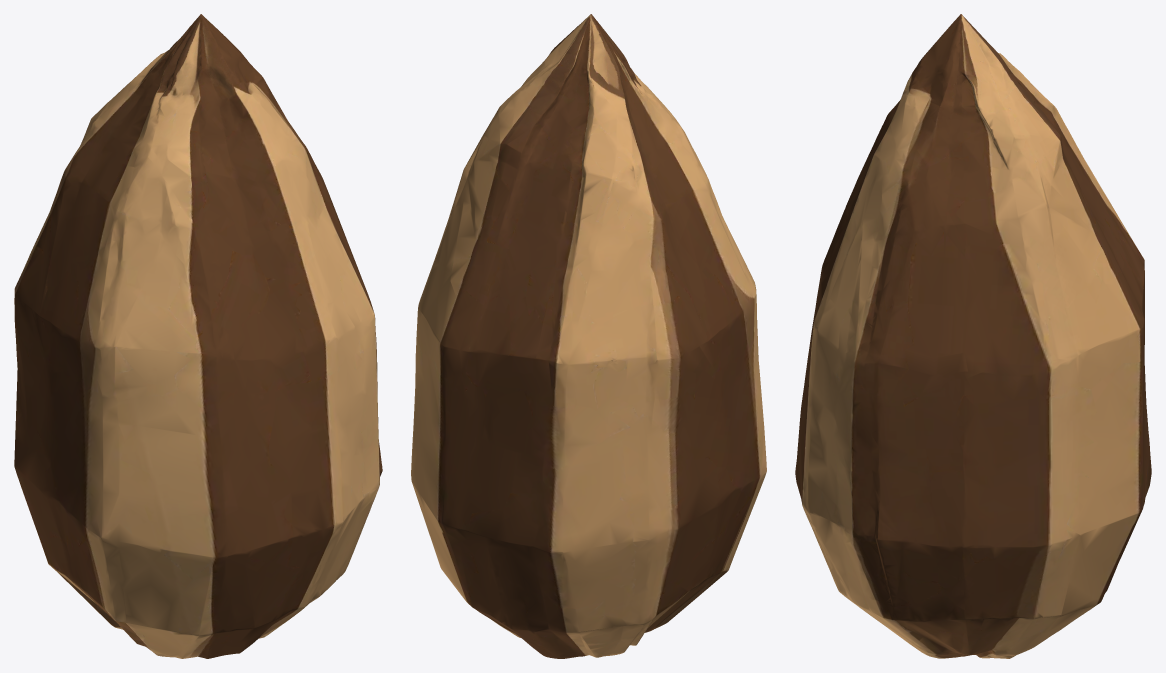
The model's file is seed.glb.
3 renders of one model, left to right at view 1: azimuth 30°, elevation 25°; view 2: azimuth 150°, elevation 25°; view 3: azimuth 270°, elevation 25°, orthographic.
Bounding box in the file's own units: 0.9228 × 1.9 × 0.966.
1 material, 1 textured.
